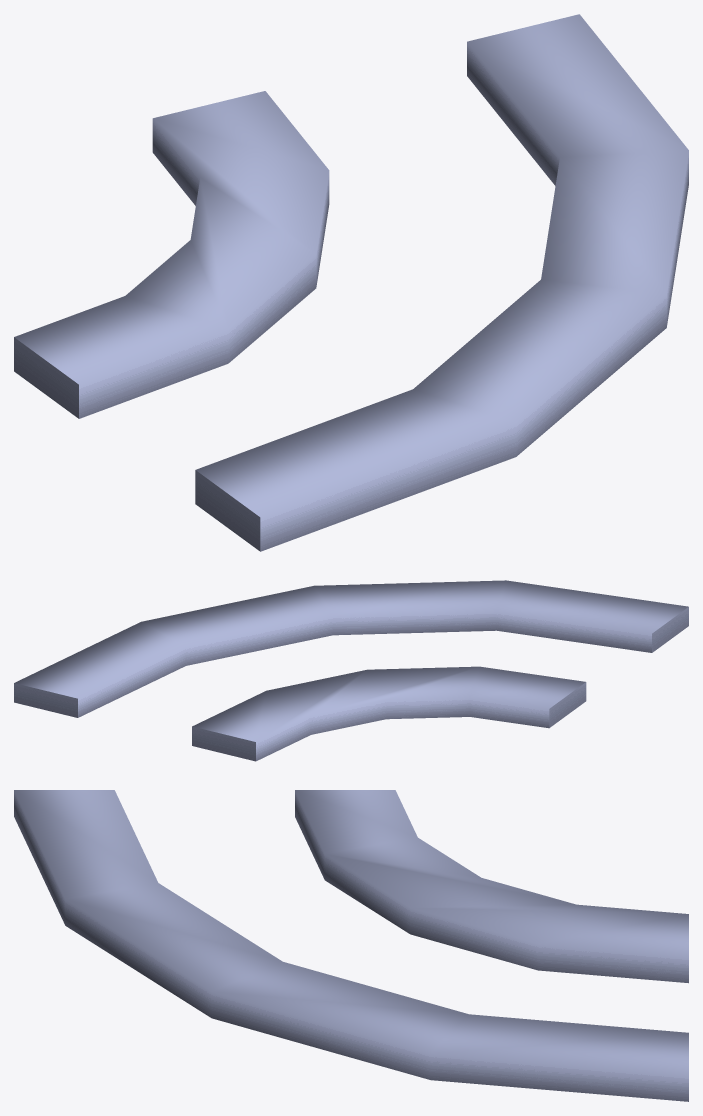
Rendered from trainset-rail-corner.glb.
3 views of the same model, one above another, from view 1: azimuth 30°, elevation 25°; view 2: azimuth 150°, elevation 25°; view 3: azimuth 270°, elevation 25° (orthographic). The views are drawn at different scales.
Parts seen in each view (by area): view 1: trainset-rail-corner; view 2: trainset-rail-corner; view 3: trainset-rail-corner.
Part boxes in pixels (<box>): trainset-rail-corner: <box>14,14,688,551</box>; trainset-rail-corner: <box>14,580,688,761</box>; trainset-rail-corner: <box>14,790,688,1101</box>.
Size of the model in its own units: 1.05 by 0.0454 by 1.05.
Materials: 1 (1 with a texture image).
